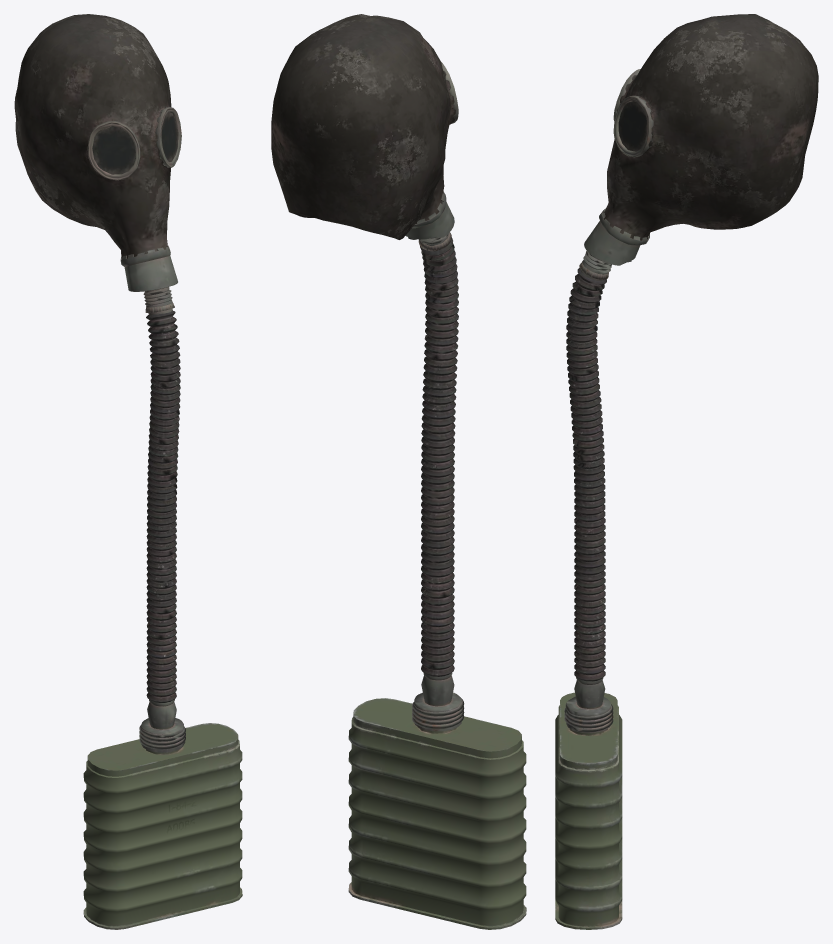
Rendered from old_gas_mask.glb.
The picture shows the model from 3 angles, left to right: view 1: azimuth 30°, elevation 25°; view 2: azimuth 150°, elevation 25°; view 3: azimuth 270°, elevation 25°; orthographic projection. The views are drawn at different scales.
Parts seen in each view (by area): view 1: old_gas_mask; view 2: old_gas_mask; view 3: old_gas_mask.
Part boxes in pixels (<box>): old_gas_mask: <box>14,14,242,929</box>; old_gas_mask: <box>271,14,526,929</box>; old_gas_mask: <box>555,14,818,929</box>.
Size of the model in its own units: 0.2105 by 1.13 by 0.3087.
1 material, 1 textured.
